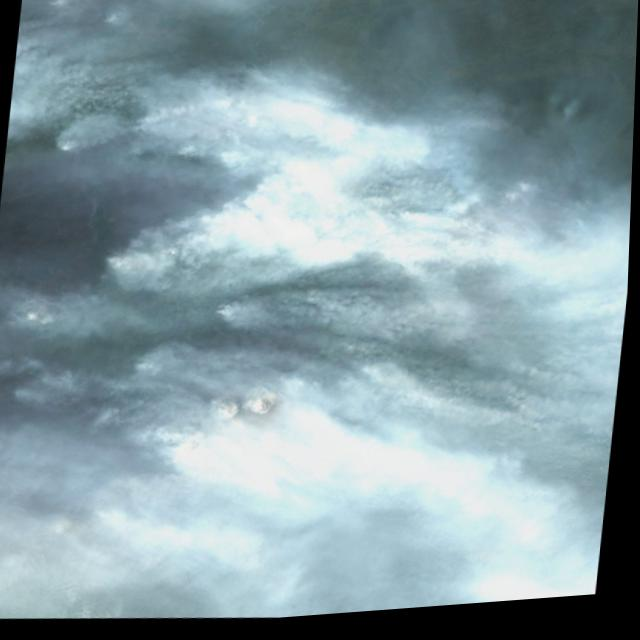fire: (0, 325, 311, 615), (58, 73, 312, 323), (313, 151, 619, 345)
